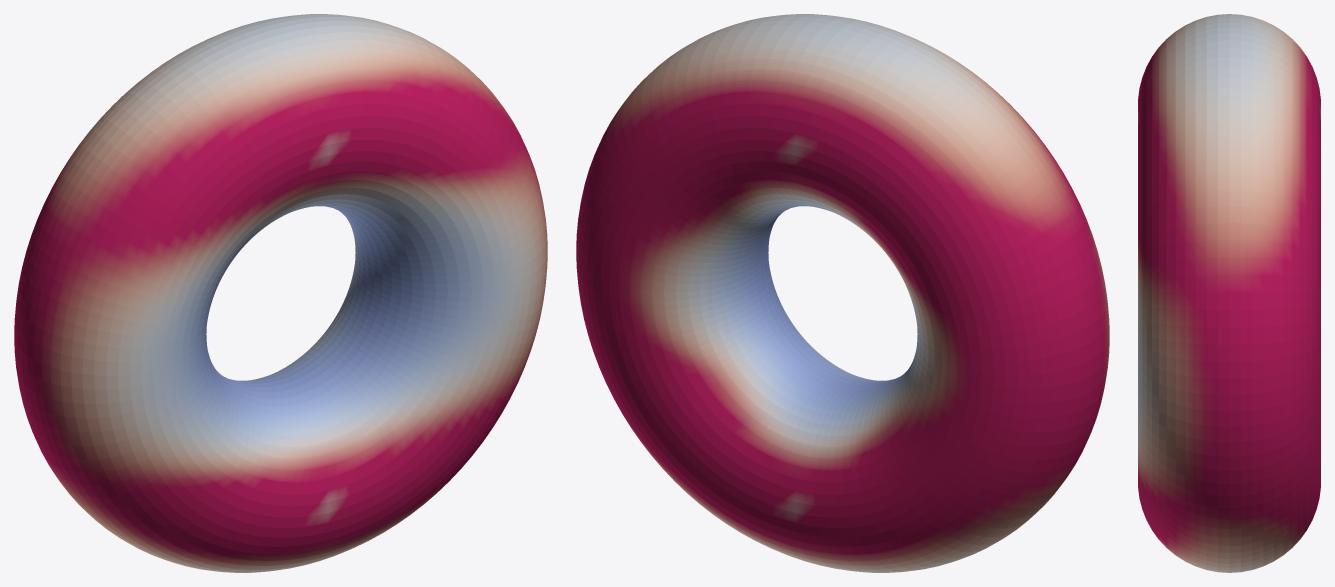
3 views of the same model, side by side, from view 1: azimuth 30°, elevation 25°; view 2: azimuth 150°, elevation 25°; view 3: azimuth 270°, elevation 25° (orthographic). The views are drawn at different scales.
Visible parts, largest first — view 1: world; view 2: world; view 3: world.
Boxes of the visible parts, x1,y1,x2,y2 form: world: [14, 14, 547, 572]; world: [576, 14, 1109, 572]; world: [1138, 14, 1320, 572].
Size of the model in its own units: 24.8 by 24.8 by 8.12.
